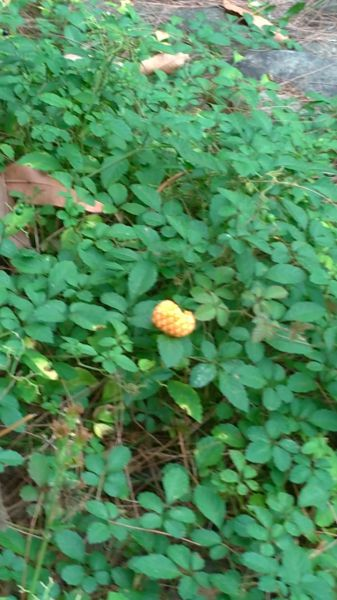eggs: (149, 295, 200, 344)
